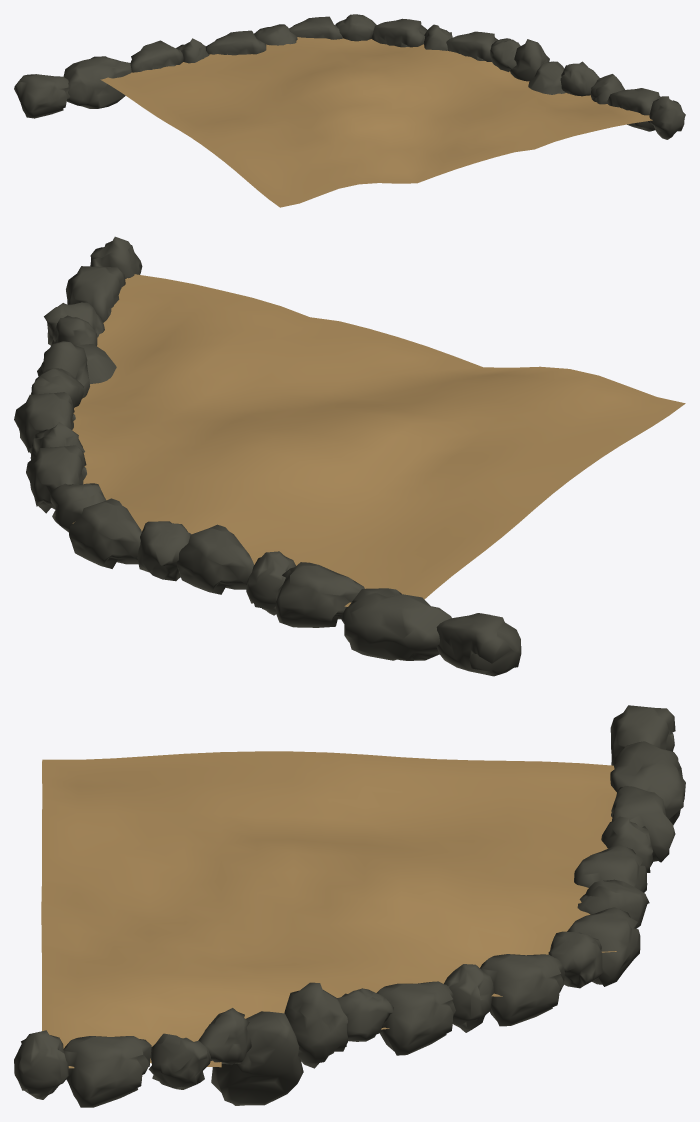
Rendered from small_ground_04.fbx.
3 renders of one model, top to bottom at view 1: azimuth 30°, elevation 25°; view 2: azimuth 150°, elevation 25°; view 3: azimuth 270°, elevation 25°, orthographic. The views are drawn at different scales.
Visible parts, largest first — view 1: polySurface_small_ground_04; view 2: polySurface_small_ground_04; view 3: polySurface_small_ground_04.
Part boxes in pixels (x1,y1,x2,y2): polySurface_small_ground_04: (14,14,685,207); polySurface_small_ground_04: (14,236,685,676); polySurface_small_ground_04: (14,705,685,1107).
Bounding box in the file's own units: 150 × 23.92 × 116.
